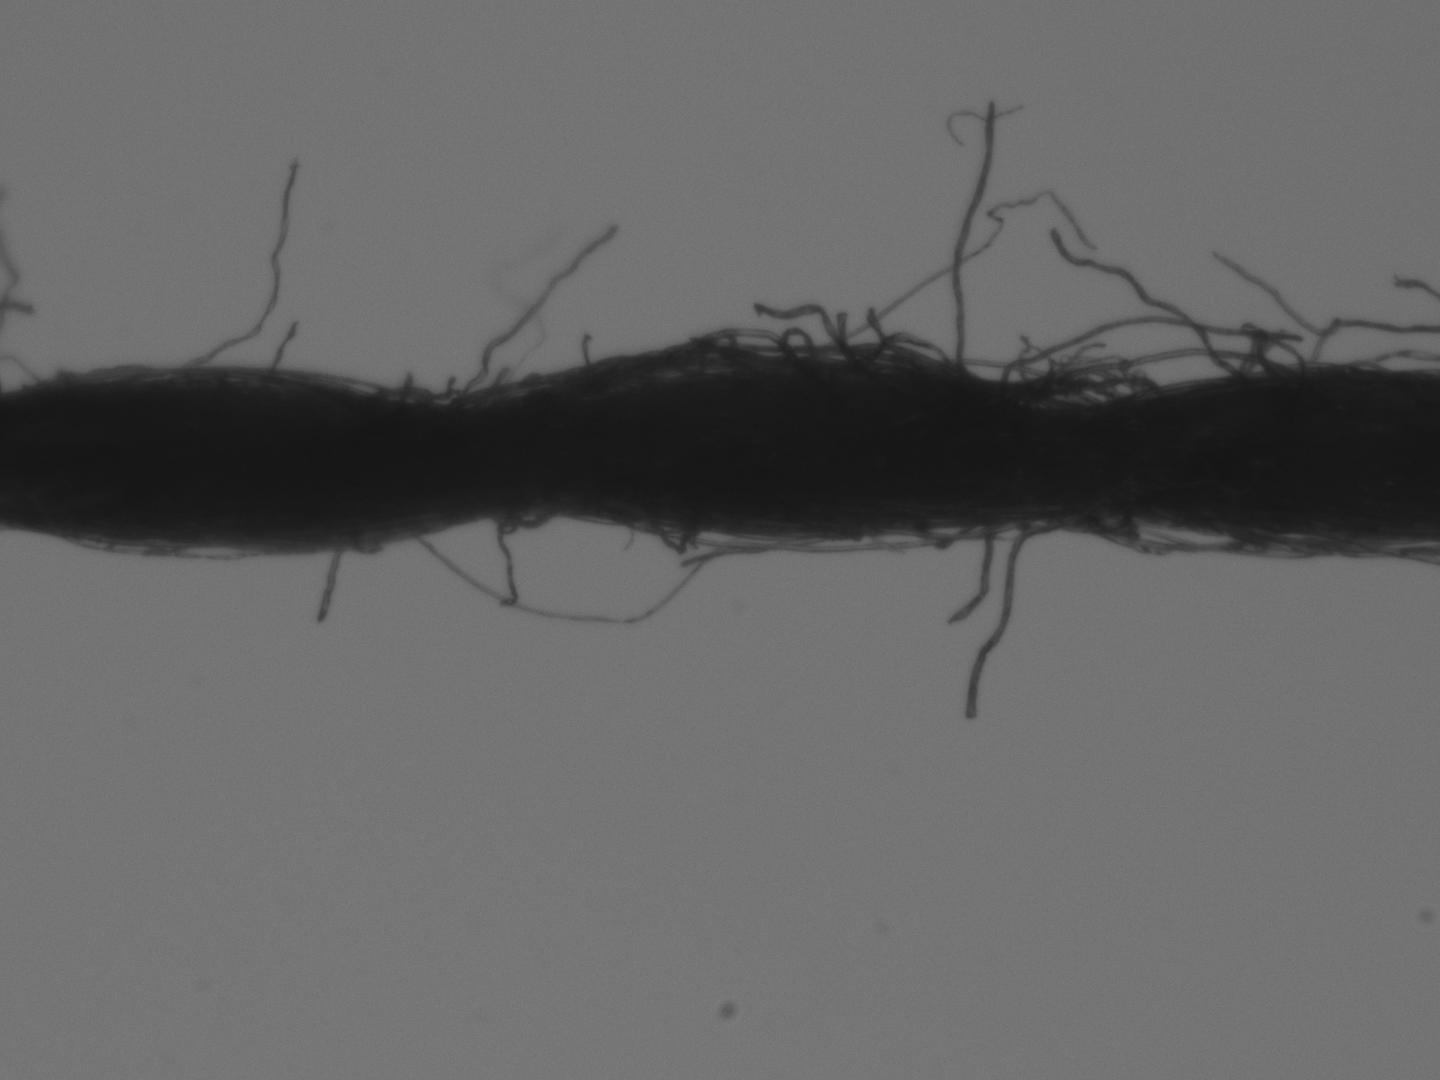loop_fiber: (407, 506, 735, 627), (1026, 349, 1287, 403), (1002, 334, 1158, 405), (628, 331, 796, 379), (1064, 518, 1246, 556), (853, 327, 975, 381), (1235, 324, 1308, 379), (488, 509, 556, 531), (780, 328, 818, 361)
protruding_fiber: (1042, 221, 1229, 378), (451, 220, 617, 396), (179, 160, 300, 373), (966, 521, 1042, 722), (949, 100, 994, 372), (949, 522, 992, 626), (492, 506, 520, 615), (316, 542, 342, 627), (265, 318, 303, 374), (577, 329, 598, 369)
